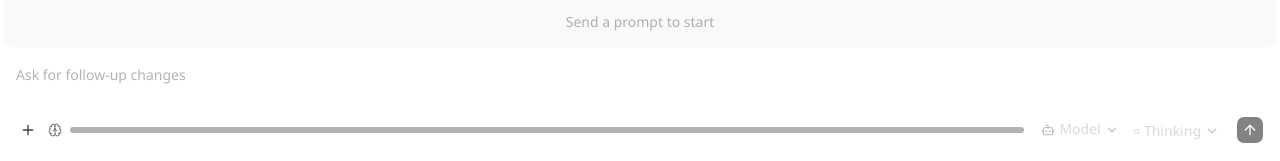
ChatStream › enables the composer for a resumable stored session (no live session)
Expected: the button named "Send" is disabled, [1236,116,1264,144]
Note: …and enabled once there's a draft.
Type "hi" into the text box at point(640, 85), box [16,64,1264,106]
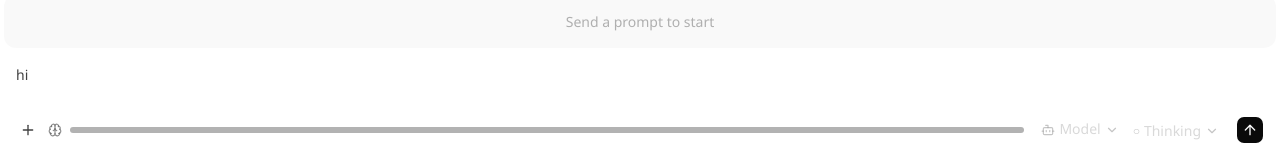
Result: the button named "Send" is enabled at [1236,116,1264,144]
